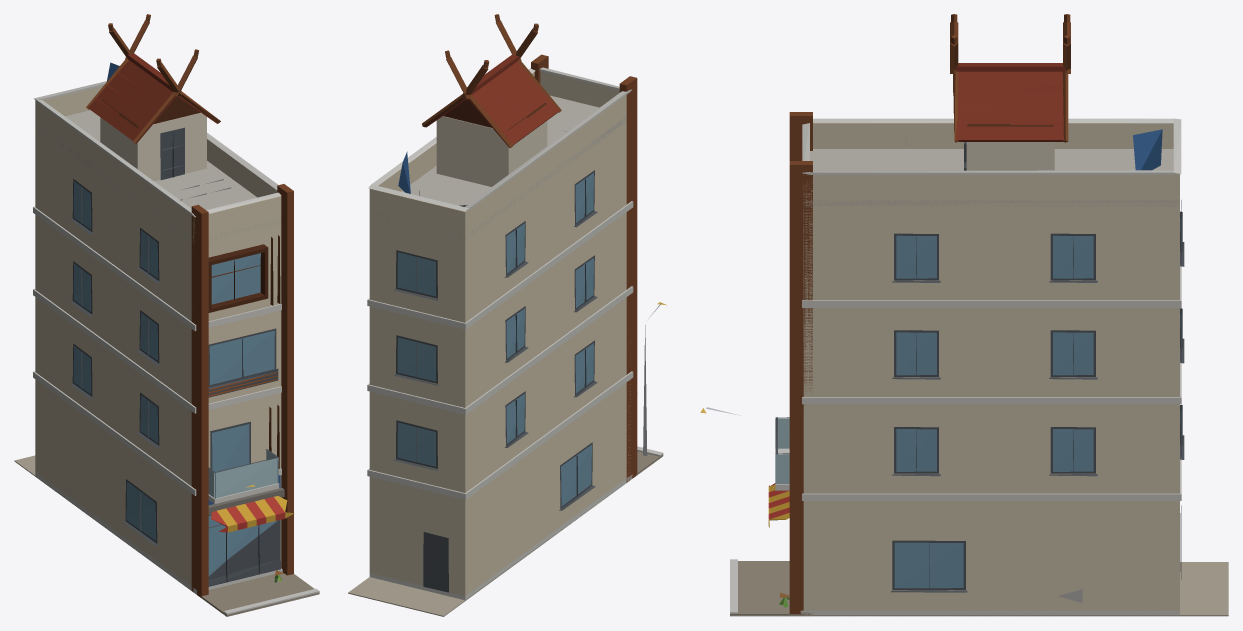
File: bay2_one.glb
3 views of the same model, side by side, from view 1: azimuth 30°, elevation 25°; view 2: azimuth 150°, elevation 25°; view 3: azimuth 270°, elevation 25° (orthographic). The views are drawn at different scales.
Parts seen in each view (by area): view 1: body; view 2: body; view 3: body.
Part boxes in pixels (x1,y1,x2,y2): body: (14, 14, 319, 616); body: (348, 14, 663, 616); body: (706, 14, 1228, 616).
Bounding box in the file's own units: 4.71 × 20.15 × 16.88.
